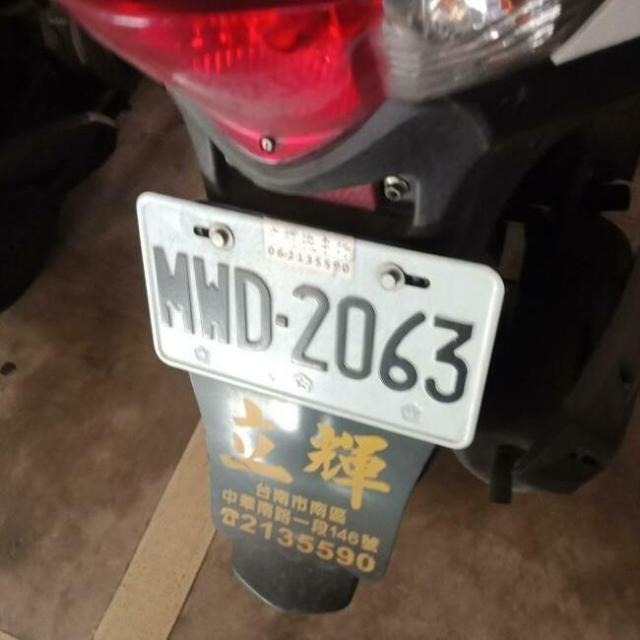W: (113, 172, 522, 464)
